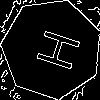H: (26, 24, 81, 73)
